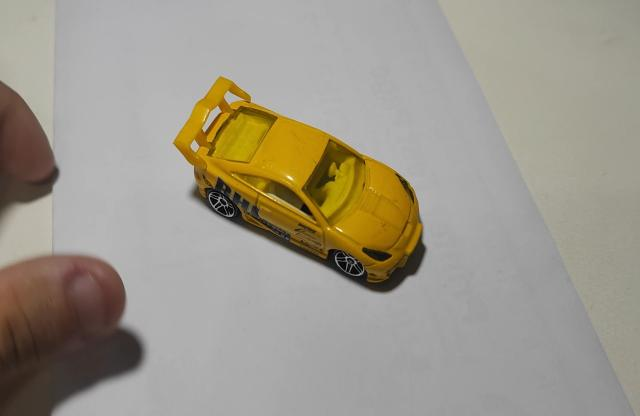07_RHLTURBO: (174, 79, 425, 294)
